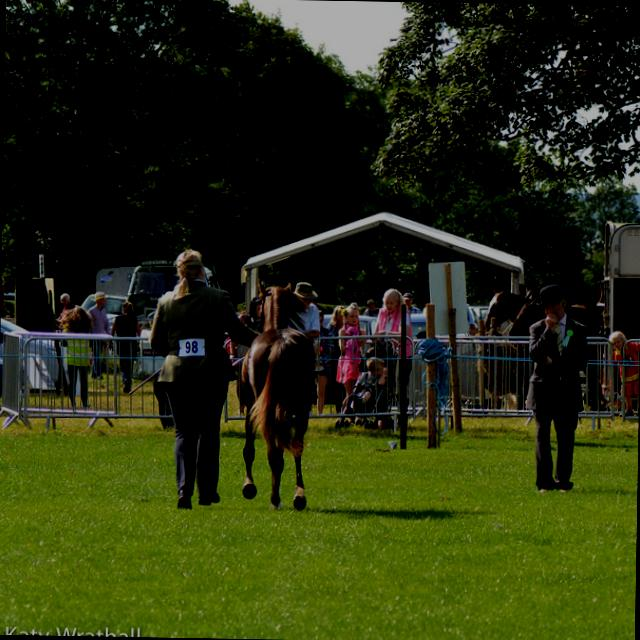Vehicle: (0, 311, 61, 395), (127, 260, 180, 324), (409, 304, 478, 340), (80, 293, 128, 333), (359, 315, 376, 335), (473, 306, 490, 318), (322, 312, 332, 328)
